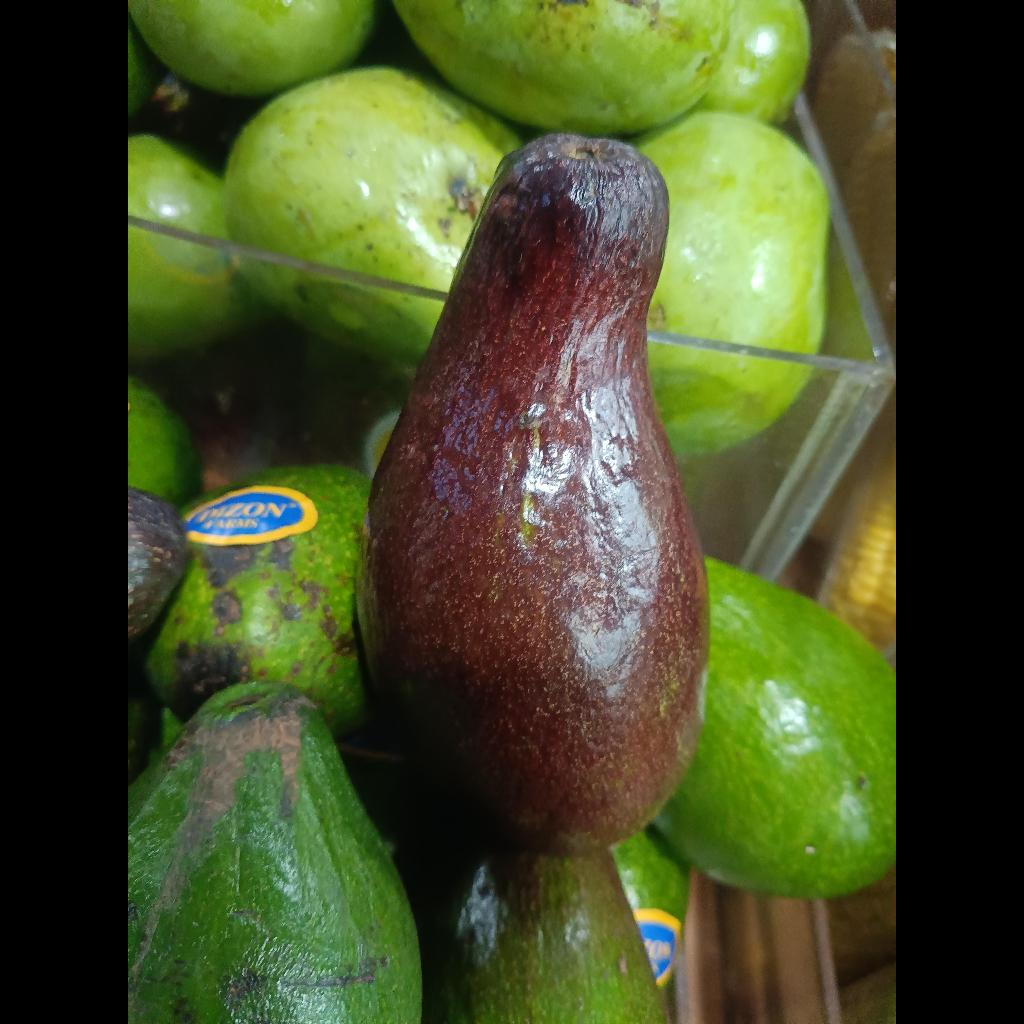anthracnose: (358, 134, 708, 853), (128, 681, 421, 1024)
healthy: (654, 559, 896, 898)
